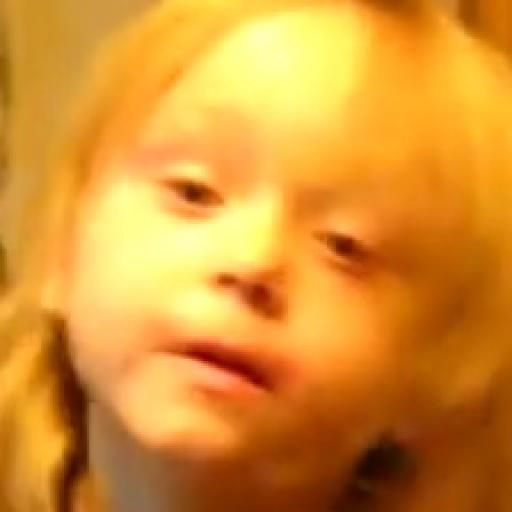Autism: (39, 0, 512, 512)
